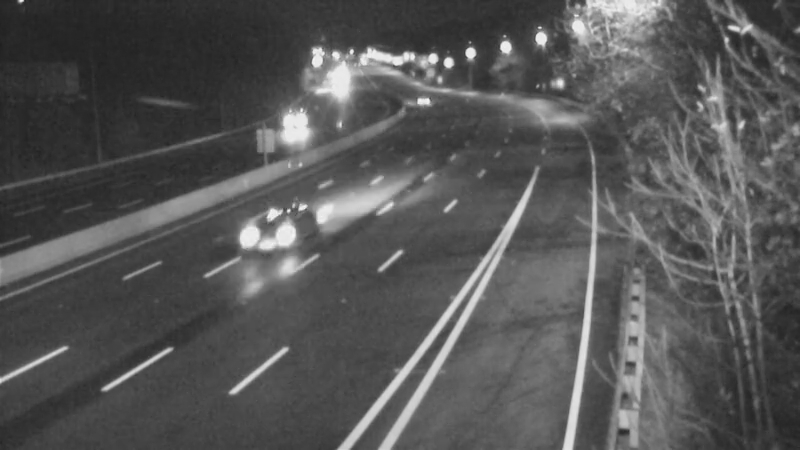vehicle: (222, 187, 302, 267), (394, 73, 444, 123), (269, 109, 319, 159), (313, 63, 363, 113)
